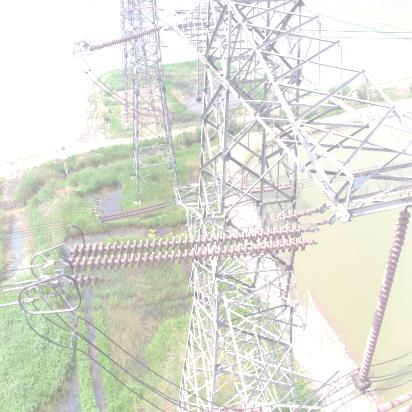insulator: (63, 200, 319, 301), (89, 27, 167, 51), (101, 201, 171, 224)
